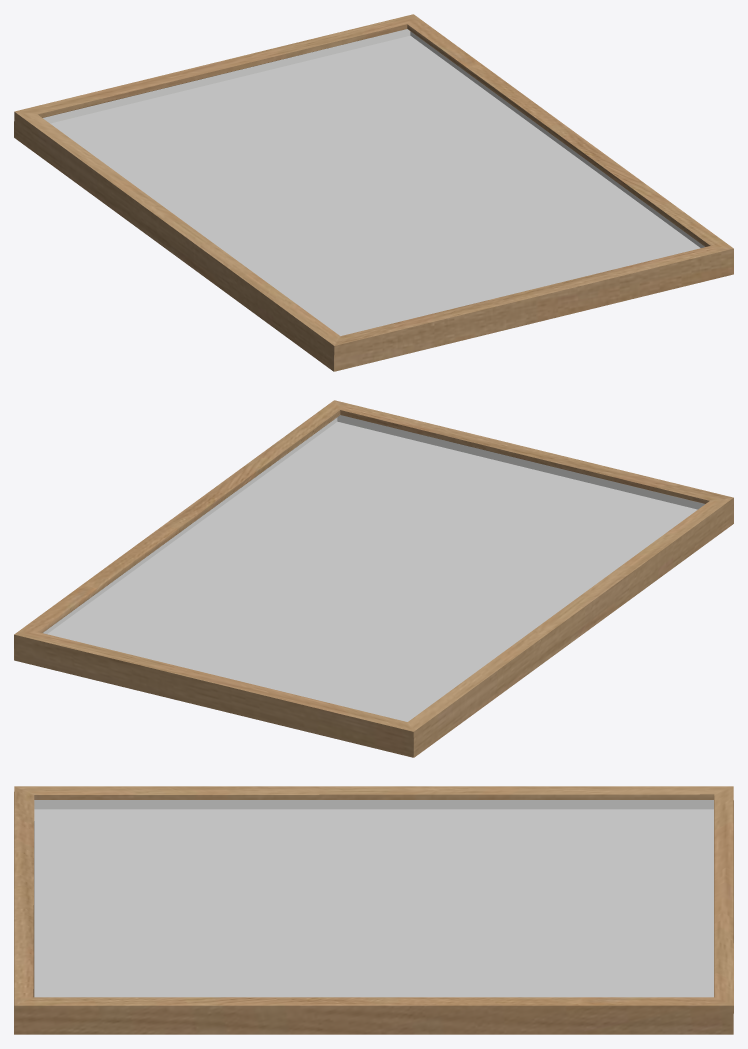
The picture shows the model from 3 angles, top to bottom: view 1: azimuth 30°, elevation 25°; view 2: azimuth 150°, elevation 25°; view 3: azimuth 270°, elevation 25°; orthographic projection. The views are drawn at different scales.
Parts seen in each view (by area): view 1: 60566401-RÃƒâ€“DALM001; view 2: 60566401-RÃƒâ€“DALM001; view 3: 60566401-RÃƒâ€“DALM001.
Part boxes in pixels (left/top/right/bottom): 60566401-RÃƒâ€“DALM001: left=14, top=14, right=733, bottom=371; 60566401-RÃƒâ€“DALM001: left=14, top=400, right=733, bottom=757; 60566401-RÃƒâ€“DALM001: left=14, top=786, right=733, bottom=1034.
Bounding box in the file's own units: 0.5178 × 0.0323 × 0.718.
2 materials, 2 textured.
